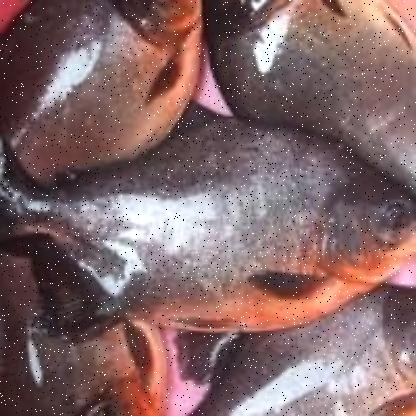ikan-pacu: (4, 120, 412, 330), (0, 0, 204, 168)
